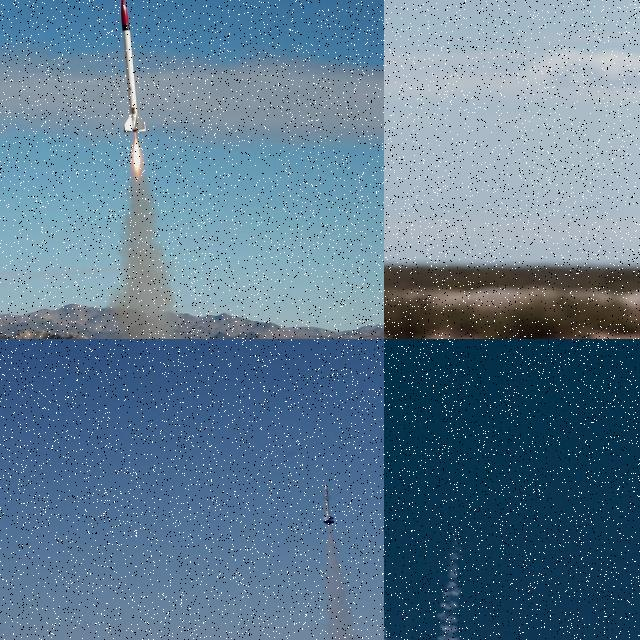Rocket: (120, 0, 147, 132), (322, 484, 334, 526)
